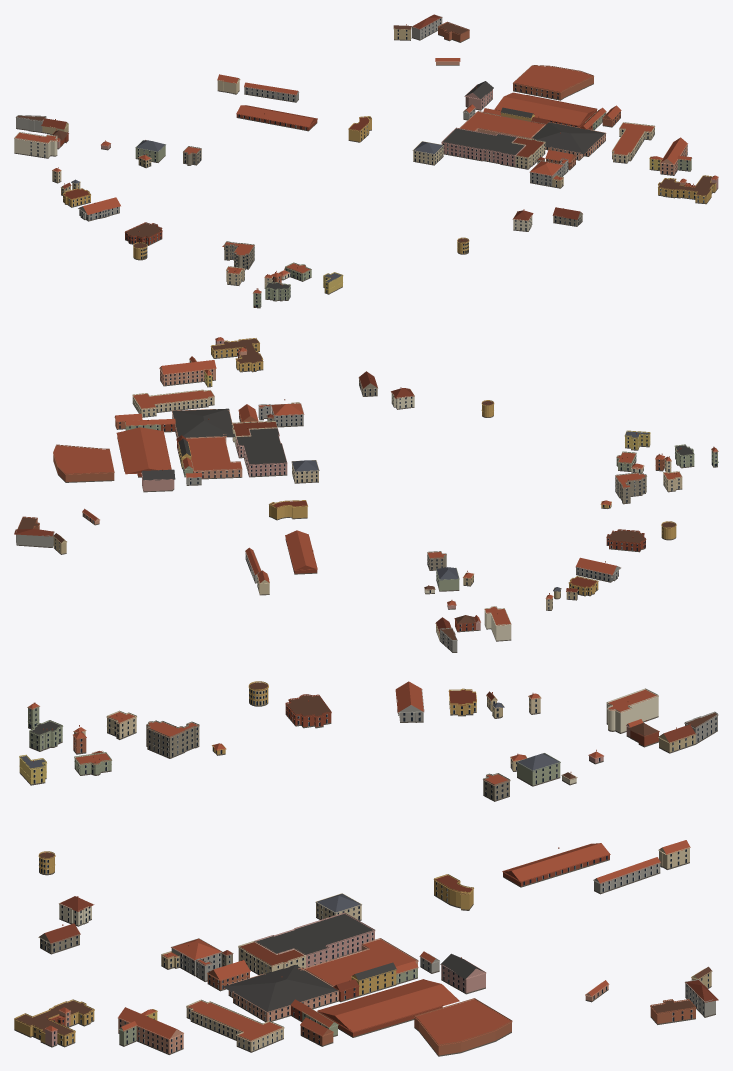
The model's file is Budynki_1_2.fbx.
3 views of the same model, one above another, from view 1: azimuth 30°, elevation 25°; view 2: azimuth 150°, elevation 25°; view 3: azimuth 270°, elevation 25° (orthographic). The views are drawn at different scales.
Parts seen in each view (by area): view 1: Bud_289039717, Bud_289039744, Bud_289039742, Bud_289039719, Bud_289039721, Bud_1157916062, Bud_259805101, Bud_289035437, Bud_213160441, Bud_289039718, Bud_289039726, Bud_300980548 (+10 smaller); view 2: Bud_289039742, Bud_289039744, Bud_289039717, Bud_289039721, Bud_289039719, Bud_259805101, Bud_289035437, Bud_259806342, Bud_1157916062, Bud_300980548, Bud_168643069, Bud_300980514 (+8 smaller); view 3: Bud_289039742, Bud_289039719, Bud_289039744, Bud_289039717, Bud_259805101, Bud_289039721, Bud_1157916062, Bud_289035437, Bud_300980548, Bud_213160441, Bud_259806342, Bud_289039718 (+24 smaller).
Part boxes in pixels (x1,y1,x2,y2): Bud_289039717: (441,127,525,167); Bud_289039744: (513,65,593,100); Bud_289039742: (494,92,597,127); Bud_289039719: (530,122,606,160); Bud_289039721: (459,111,545,139); Bud_1157916062: (236,105,317,131); Bud_259805101: (612,122,655,163); Bud_289035437: (658,175,716,204); Bud_213160441: (14,132,57,158); Bud_289039718: (511,137,545,169); Bud_289039726: (244,82,299,102); Bud_300980548: (224,241,254,270); Bud_289039742: (116,427,171,477); Bud_289039744: (53,444,114,482); Bud_289039717: (236,427,287,477); Bud_289039721: (186,434,242,479); Bud_289039719: (172,408,234,438); Bud_259805101: (132,389,214,417); Bud_289035437: (210,338,263,372); Bud_259806342: (159,360,216,386); Bud_1157916062: (285,530,317,574); Bud_300980548: (615,472,646,504); Bud_168643069: (606,529,646,552); Bud_300980514: (575,557,620,582); Bud_289039742: (317,979,459,1037); Bud_289039719: (223,965,338,1022); Bud_289039744: (414,998,512,1056); Bud_289039717: (254,912,375,967); Bud_259805101: (186,999,284,1052); Bud_289039721: (298,938,418,986); Bud_1157916062: (502,843,610,887); Bud_289035437: (14,999,94,1047); Bud_300980548: (146,720,199,758); Bud_213160441: (606,688,658,733); Bud_259806342: (118,1007,183,1054); Bud_289039718: (238,941,305,974).
Size of the model in its own units: 520 by 17.3 by 432.
